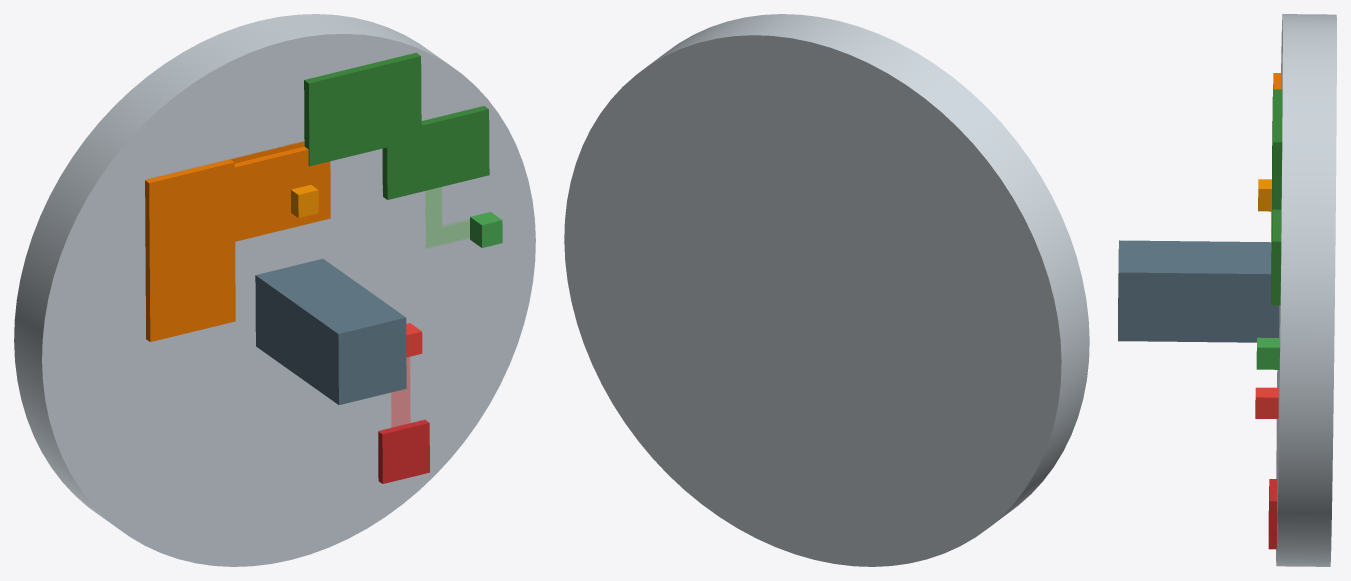
The picture shows the model from 3 angles, left to right: view 1: azimuth 30°, elevation 25°; view 2: azimuth 150°, elevation 25°; view 3: azimuth 270°, elevation 25°; orthographic projection. The views are drawn at different scales.
Parts seen in each view (by area): view 1: mesh_id54, mesh_id117, mesh_id404, mesh_id364, mesh_id327, mesh_id440, mesh_id303, mesh_id281, mesh_id237; view 2: mesh_id54; view 3: mesh_id54, mesh_id117, mesh_id364, mesh_id327, mesh_id197, mesh_id281, mesh_id303, mesh_id237.
Part boxes in pixels (x1,y1,x2,y2): mesh_id54: (14, 14, 535, 566); mesh_id117: (255, 258, 406, 404); mesh_id404: (145, 159, 235, 341); mesh_id364: (304, 52, 421, 166); mesh_id327: (382, 106, 489, 199); mesh_id440: (234, 146, 330, 241); mesh_id303: (378, 420, 429, 483); mesh_id281: (470, 212, 502, 247); mesh_id237: (291, 185, 318, 218); mesh_id54: (564, 14, 1089, 566); mesh_id54: (1276, 14, 1336, 566); mesh_id117: (1118, 240, 1279, 342); mesh_id364: (1272, 89, 1282, 218); mesh_id327: (1271, 209, 1281, 305); mesh_id197: (1255, 387, 1278, 418); mesh_id281: (1256, 337, 1279, 369); mesh_id303: (1268, 479, 1277, 549); mesh_id237: (1258, 179, 1271, 211).
Size of the model in its own units: 1246 by 1247 by 494.
10 materials, 10 textured.
